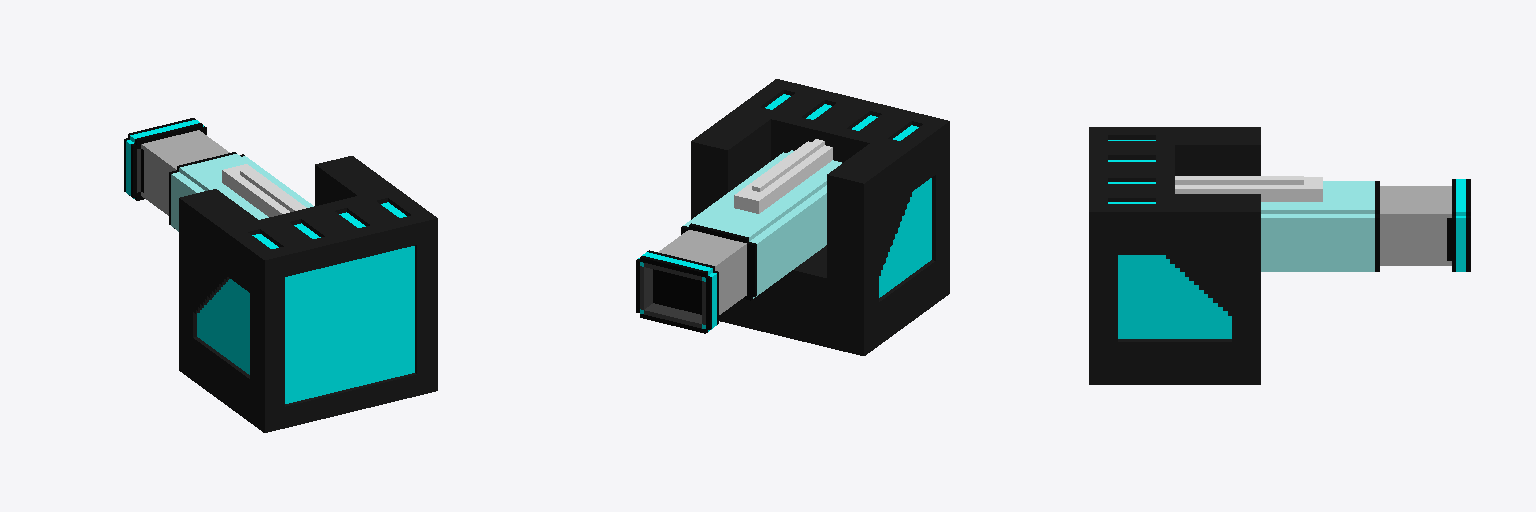
3 renders of one model, left to right at view 1: azimuth 30°, elevation 25°; view 2: azimuth 150°, elevation 25°; view 3: azimuth 270°, elevation 25°, orthographic.
Parts seen in each view (by area): view 1: object 1; view 2: object 1; view 3: object 1.
Boxes of the visible parts, x1,y1,x2,y2 form: object 1: [124, 118, 437, 432]; object 1: [636, 79, 949, 355]; object 1: [1089, 127, 1470, 384].
Size of the model in its own units: 4.2 by 4 by 8.
1 materials, 1 textured.